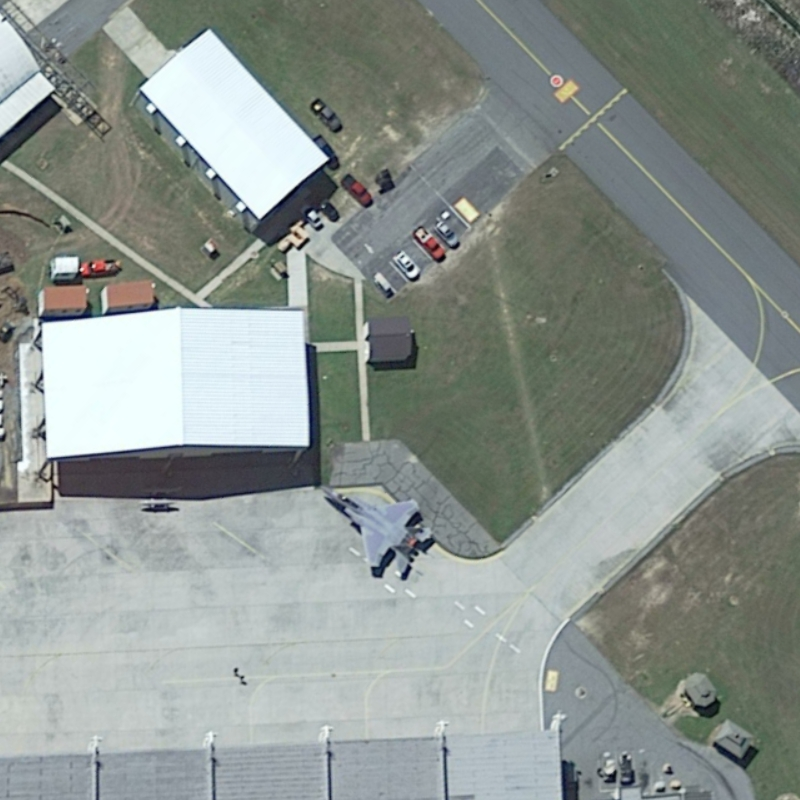A13: (307, 477, 438, 583)
